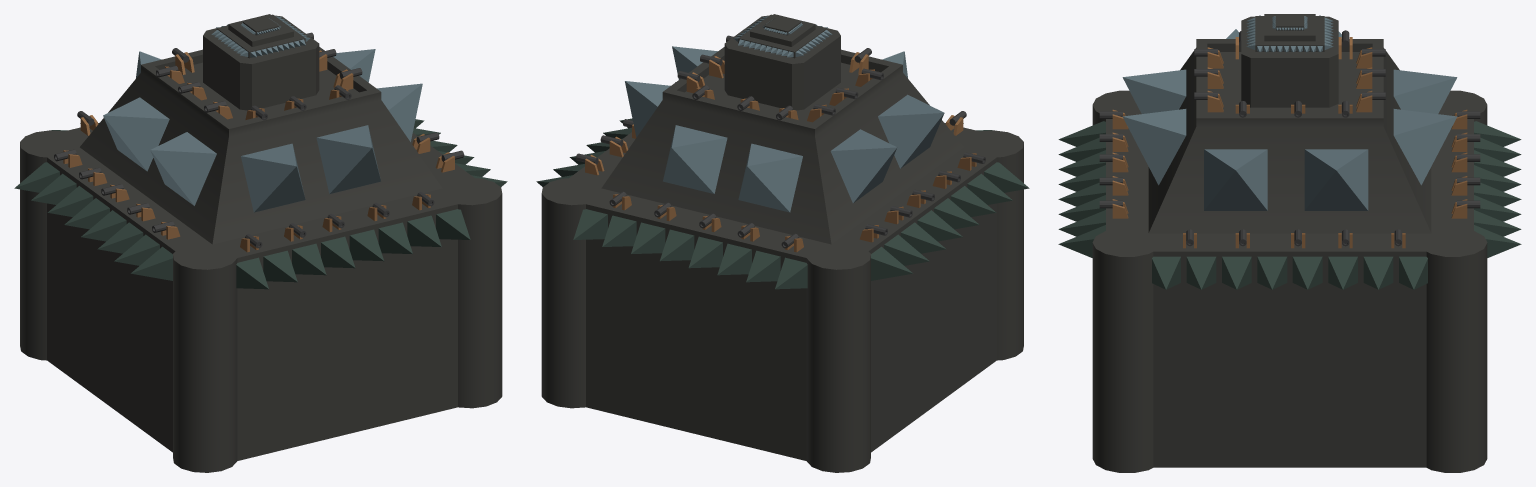
3 renders of one model, left to right at view 1: azimuth 30°, elevation 25°; view 2: azimuth 150°, elevation 25°; view 3: azimuth 270°, elevation 25°, orthographic. The views are drawn at different scales.
Visible parts, largest first — view 1: Cube.012; view 2: Cube.012; view 3: Cube.012.
Part boxes in pixels (box(x1,y1,x2,y2)): Cube.012: box(14, 14, 507, 472); Cube.012: box(536, 14, 1029, 472); Cube.012: box(1058, 14, 1521, 472).
Size of the model in its own units: 6.06 by 5.33 by 6.06.
